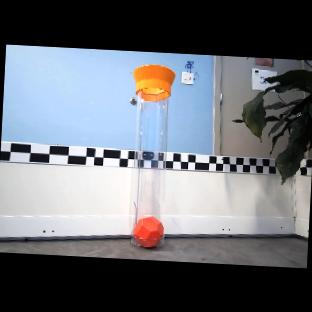V5_RED: (132, 216, 165, 247)
